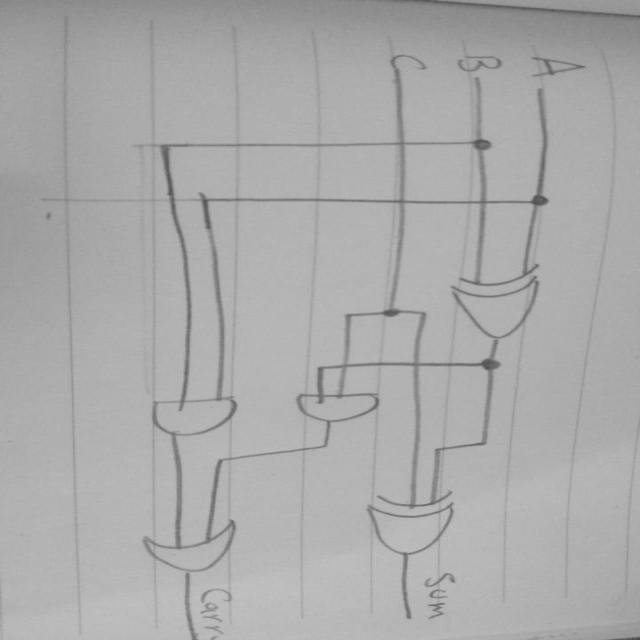AND: (284, 386, 400, 437), (144, 394, 256, 444)
OR: (127, 524, 276, 583)
XOR: (438, 269, 580, 350), (360, 487, 474, 565), (158, 524, 159, 524)
